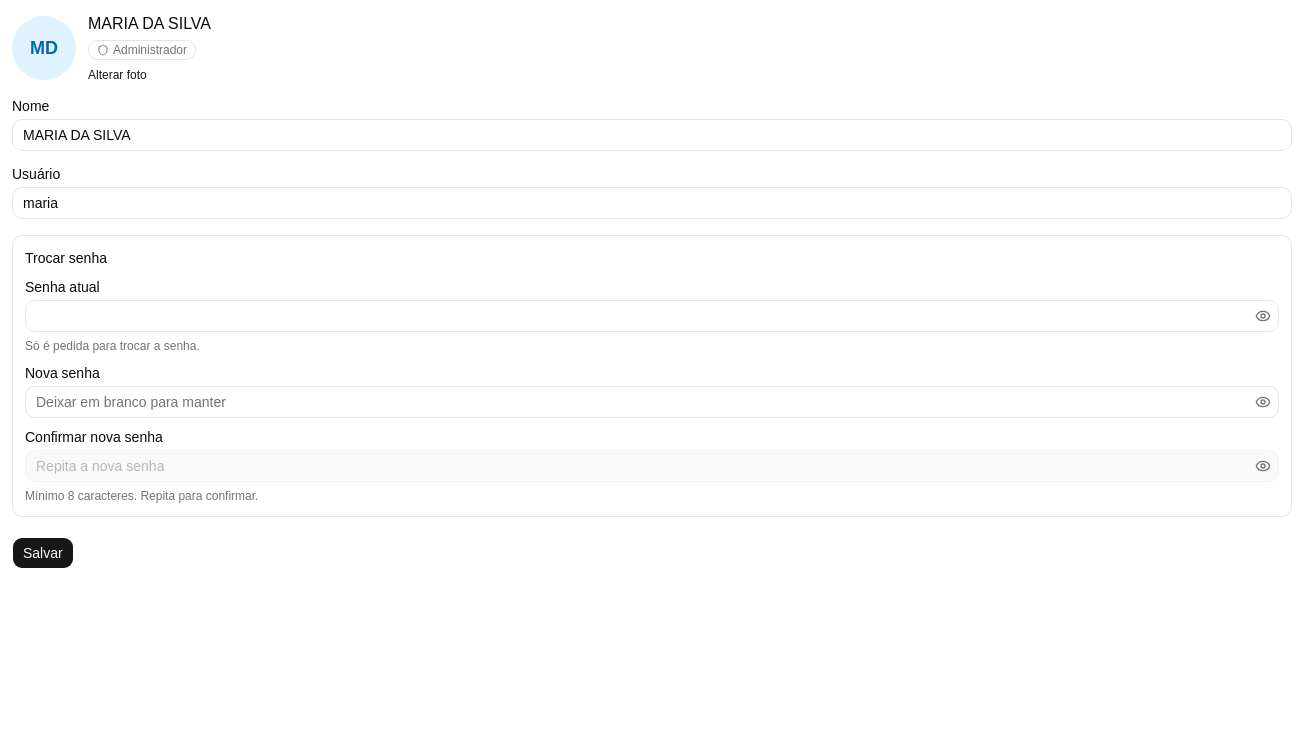
Test case: Minha conta: trocar a senha › senha atual errada (400 do backend) aparece embaixo do campo
The width and height of the screenshot is (1304, 732).
Type "errada" into the password field labelled "Senha atual" at (652, 316), box [25,300,1279,332]
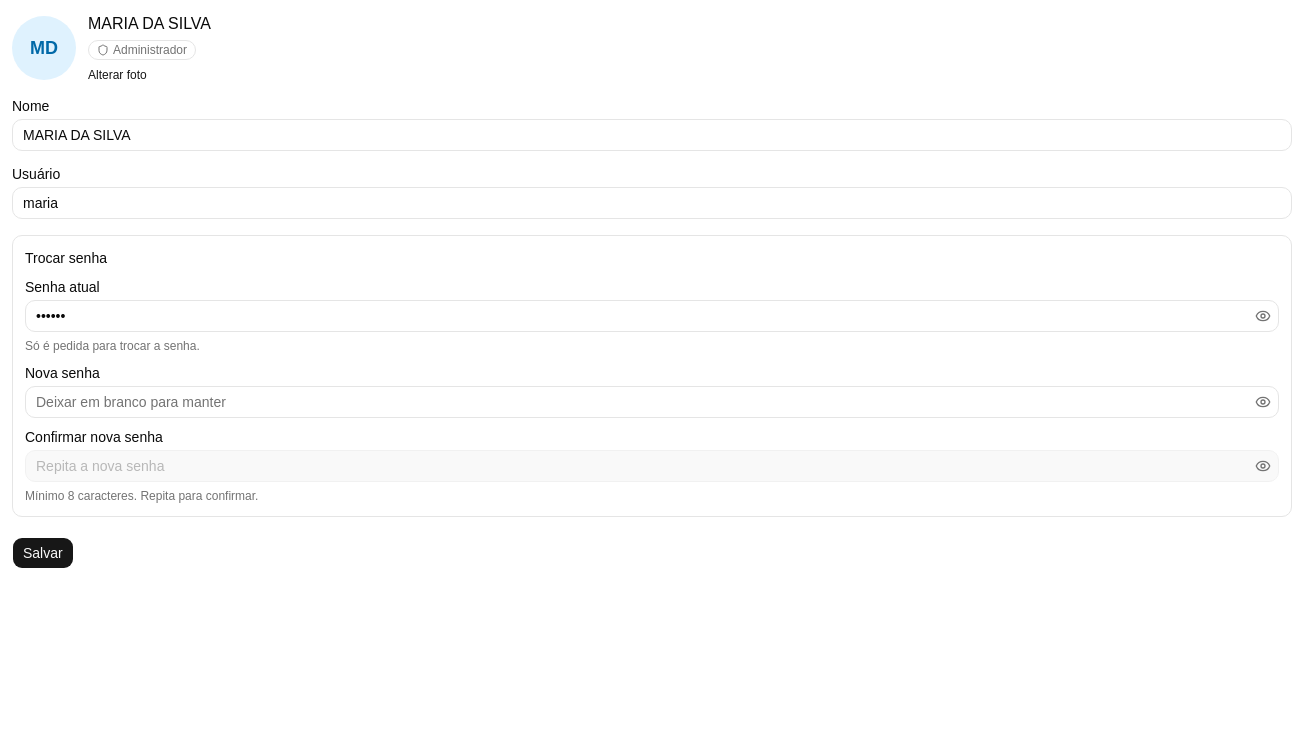
Type "senha-nova-123" into the password field labelled "Nova senha" at (652, 402), box [25,386,1279,418]
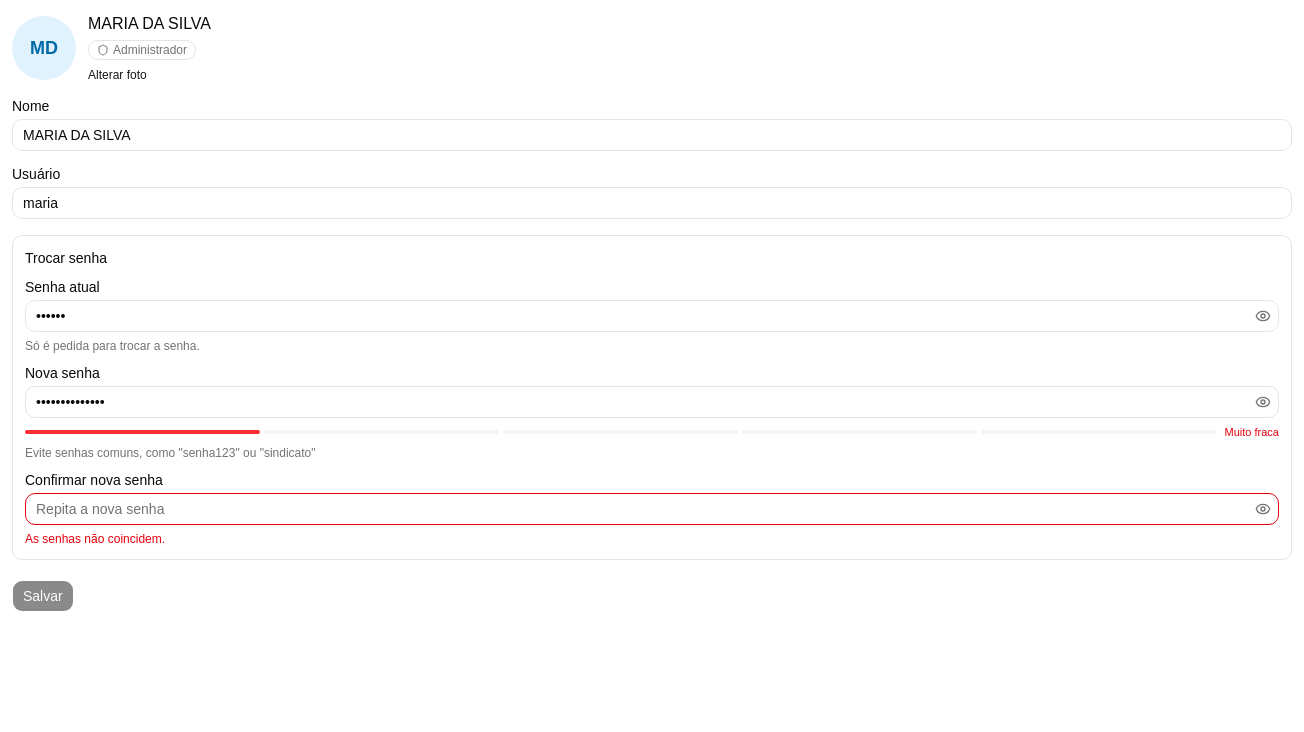
Type "senha-nova-123" into the password field labelled "Confirmar nova senha" at (652, 508), box [25,492,1279,524]
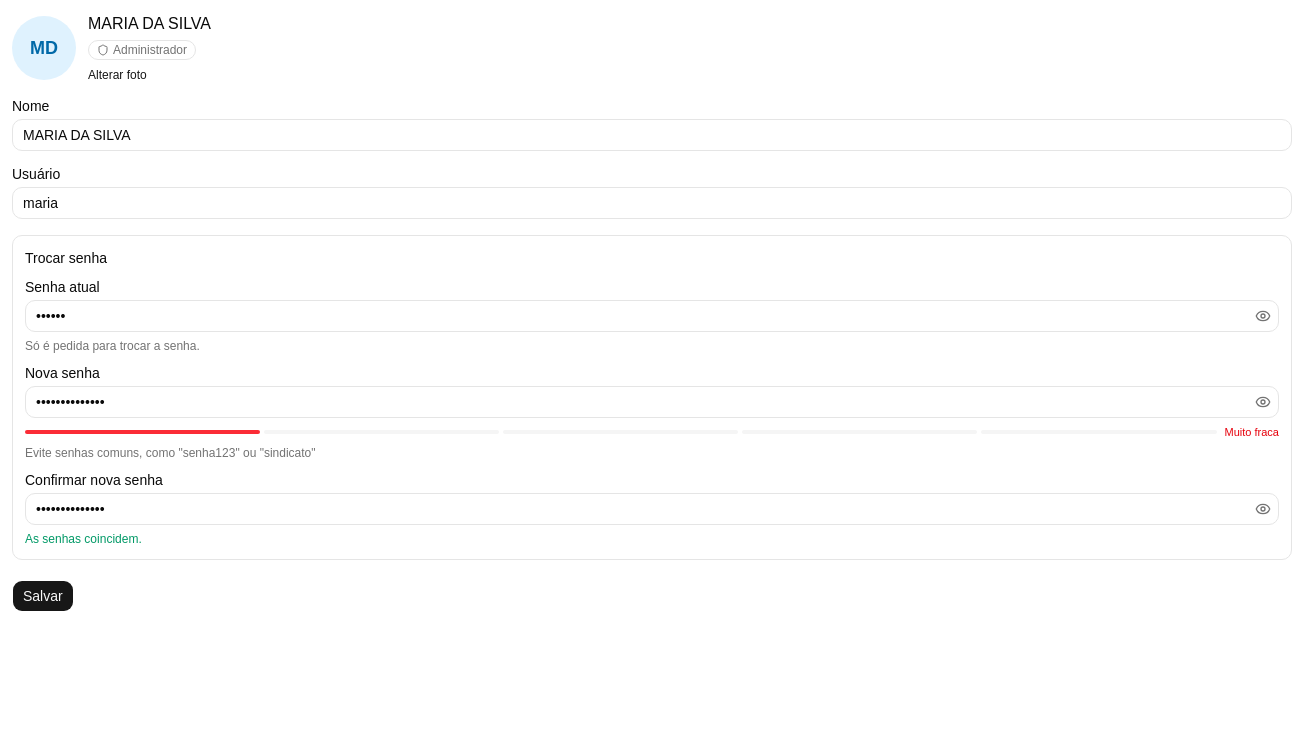
Click the button "Salvar" at (43, 596), box [12,580,74,612]
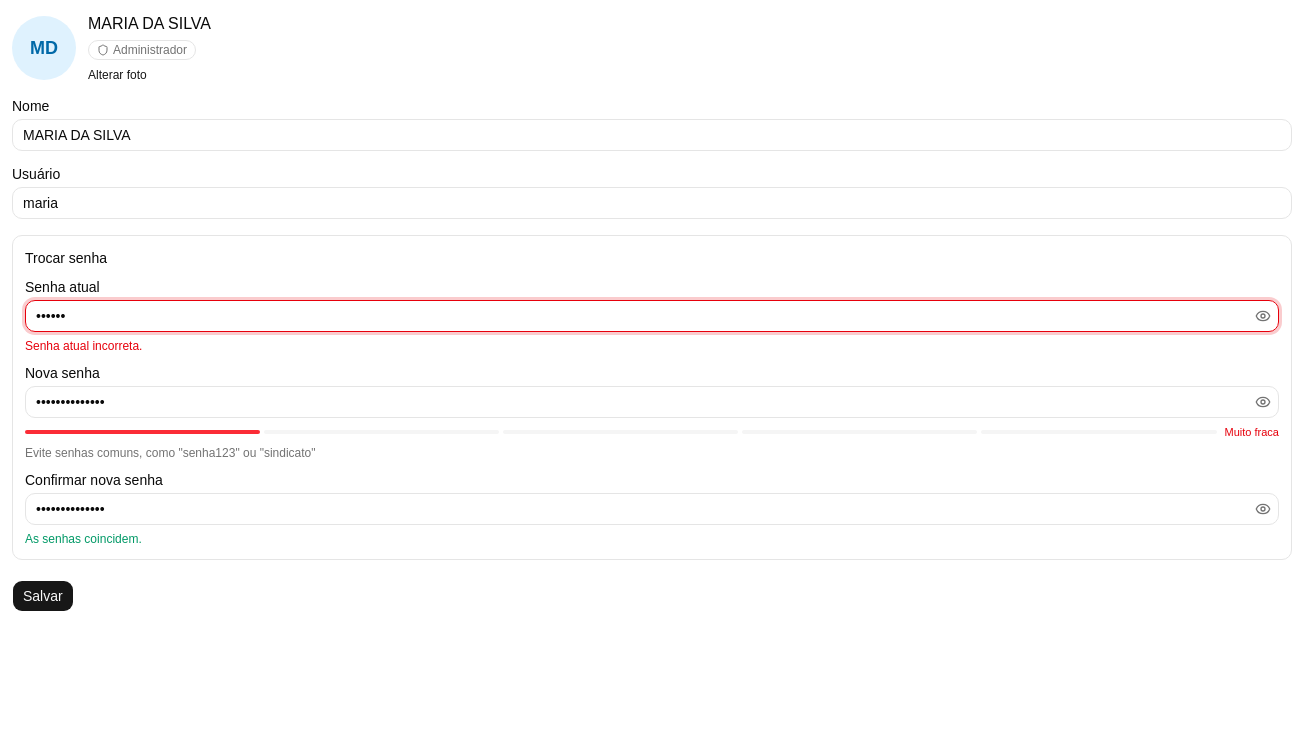
Result: the text "Senha atual incorreta." is shown at [25,339,142,353]
